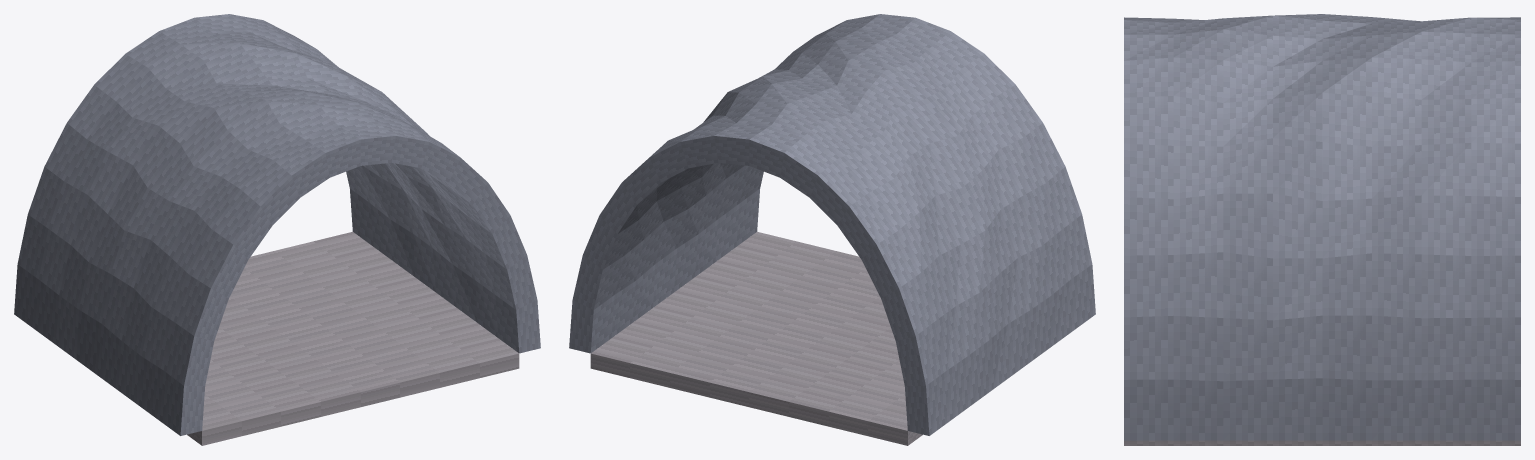
File: cave-and-crystal-networks-wide-gallery-71b46ec0.glb
3 views of the same model, side by side, from view 1: azimuth 30°, elevation 25°; view 2: azimuth 150°, elevation 25°; view 3: azimuth 270°, elevation 25° (orthographic). The views are drawn at different scales.
Visible parts, largest first — view 1: wide-gallery; view 2: wide-gallery; view 3: wide-gallery.
Part boxes in pixels (bbox=[...]): wide-gallery: bbox=[14, 14, 540, 445]; wide-gallery: bbox=[569, 14, 1095, 445]; wide-gallery: bbox=[1124, 14, 1520, 445].
Bounding box in the file's own units: 5 × 3.61 × 4.
Materials: 2 (2 with a texture image).
